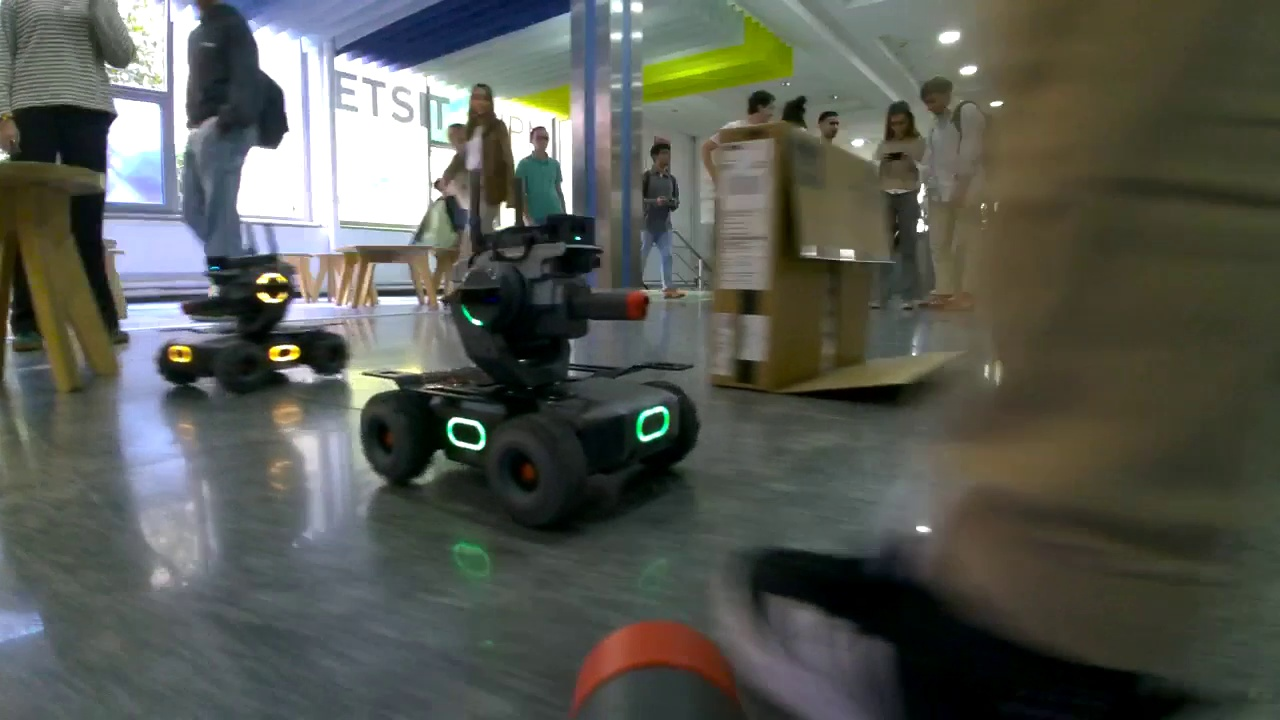robot: (362, 213, 701, 536), (150, 240, 356, 396)
